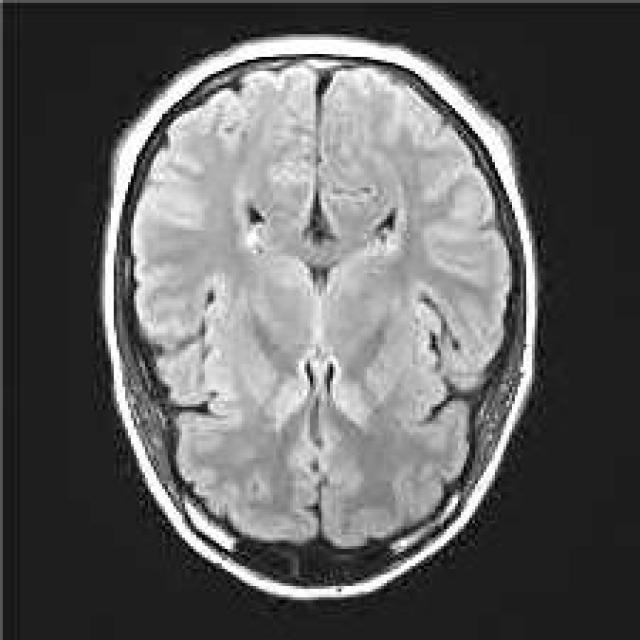notumor: (100, 37, 535, 597)
